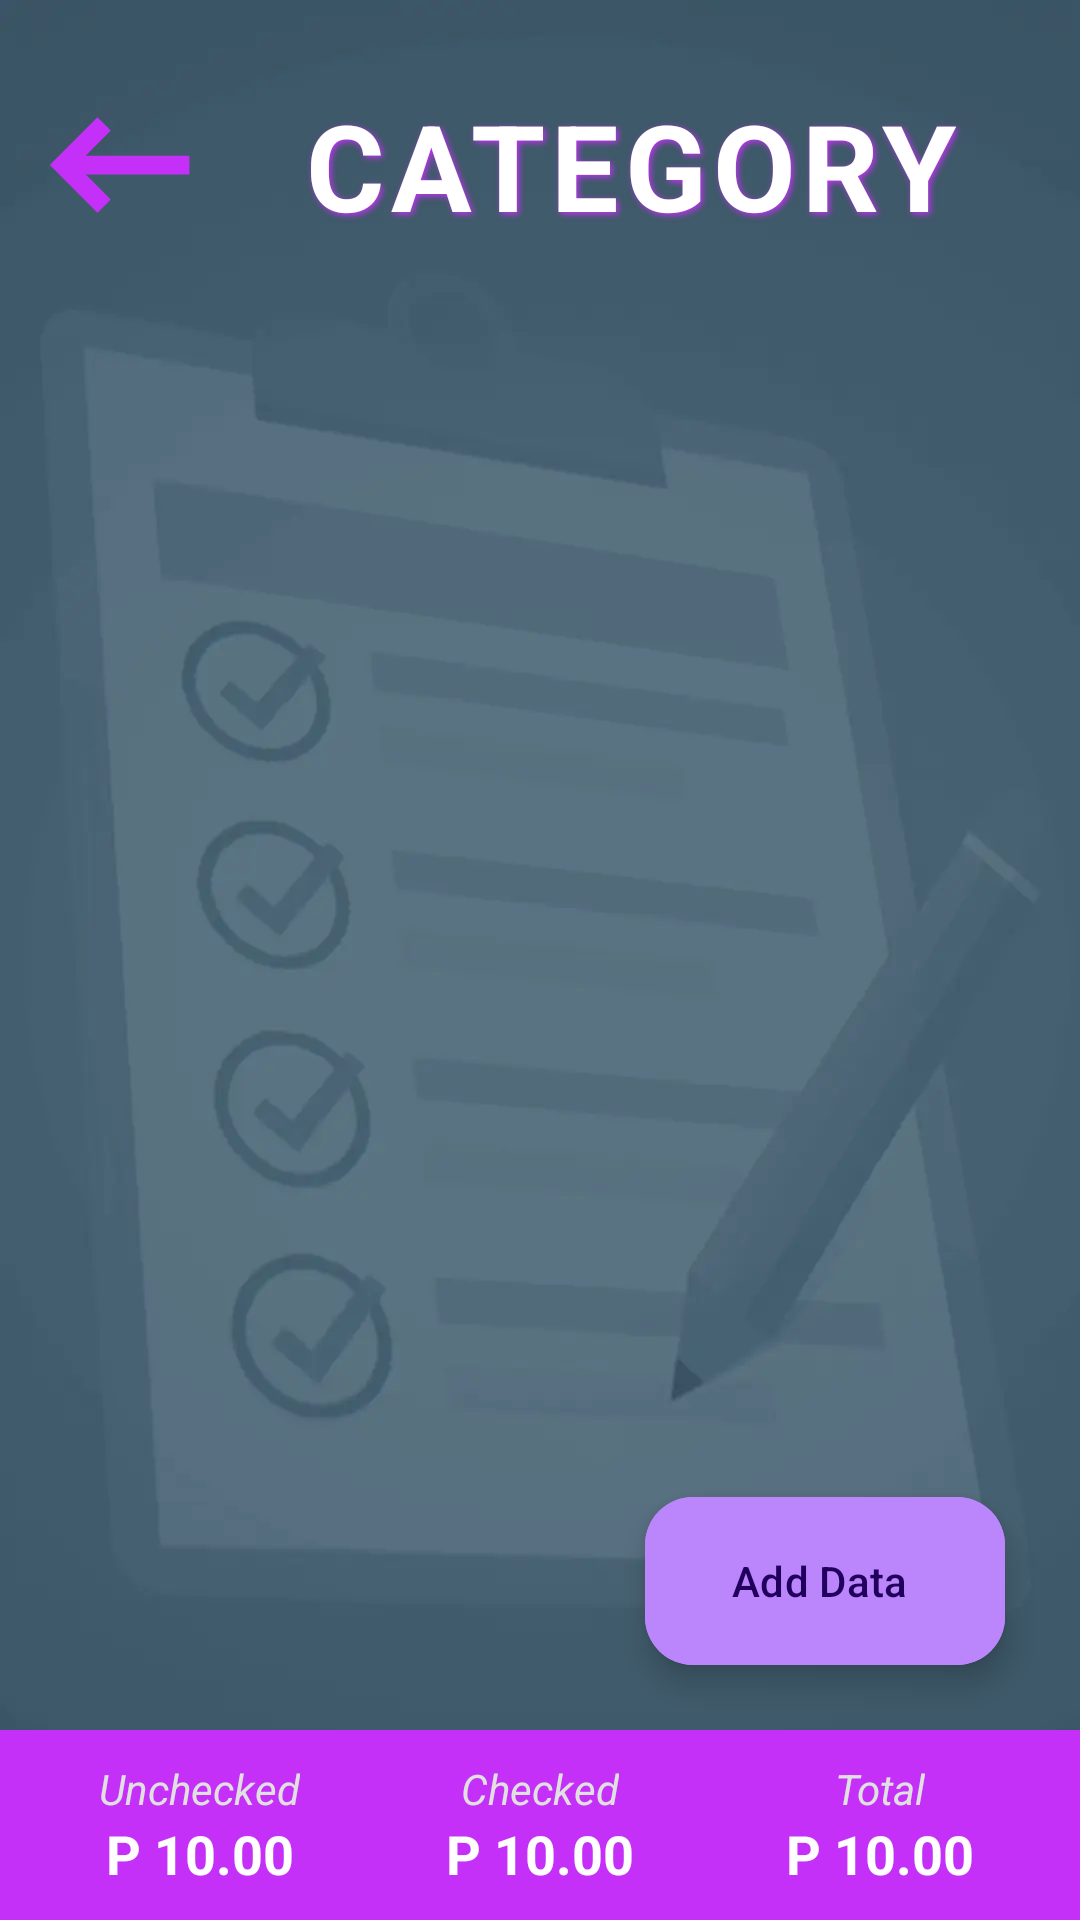

Where to tap for icons on this 1080px x 1920px app screen, as (x,y):
back: (120,165)
